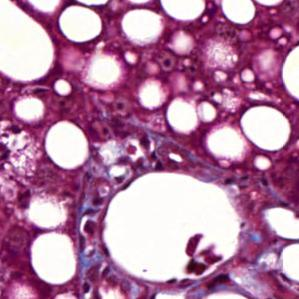steatosis: (242, 103, 291, 156), (41, 118, 90, 167)
